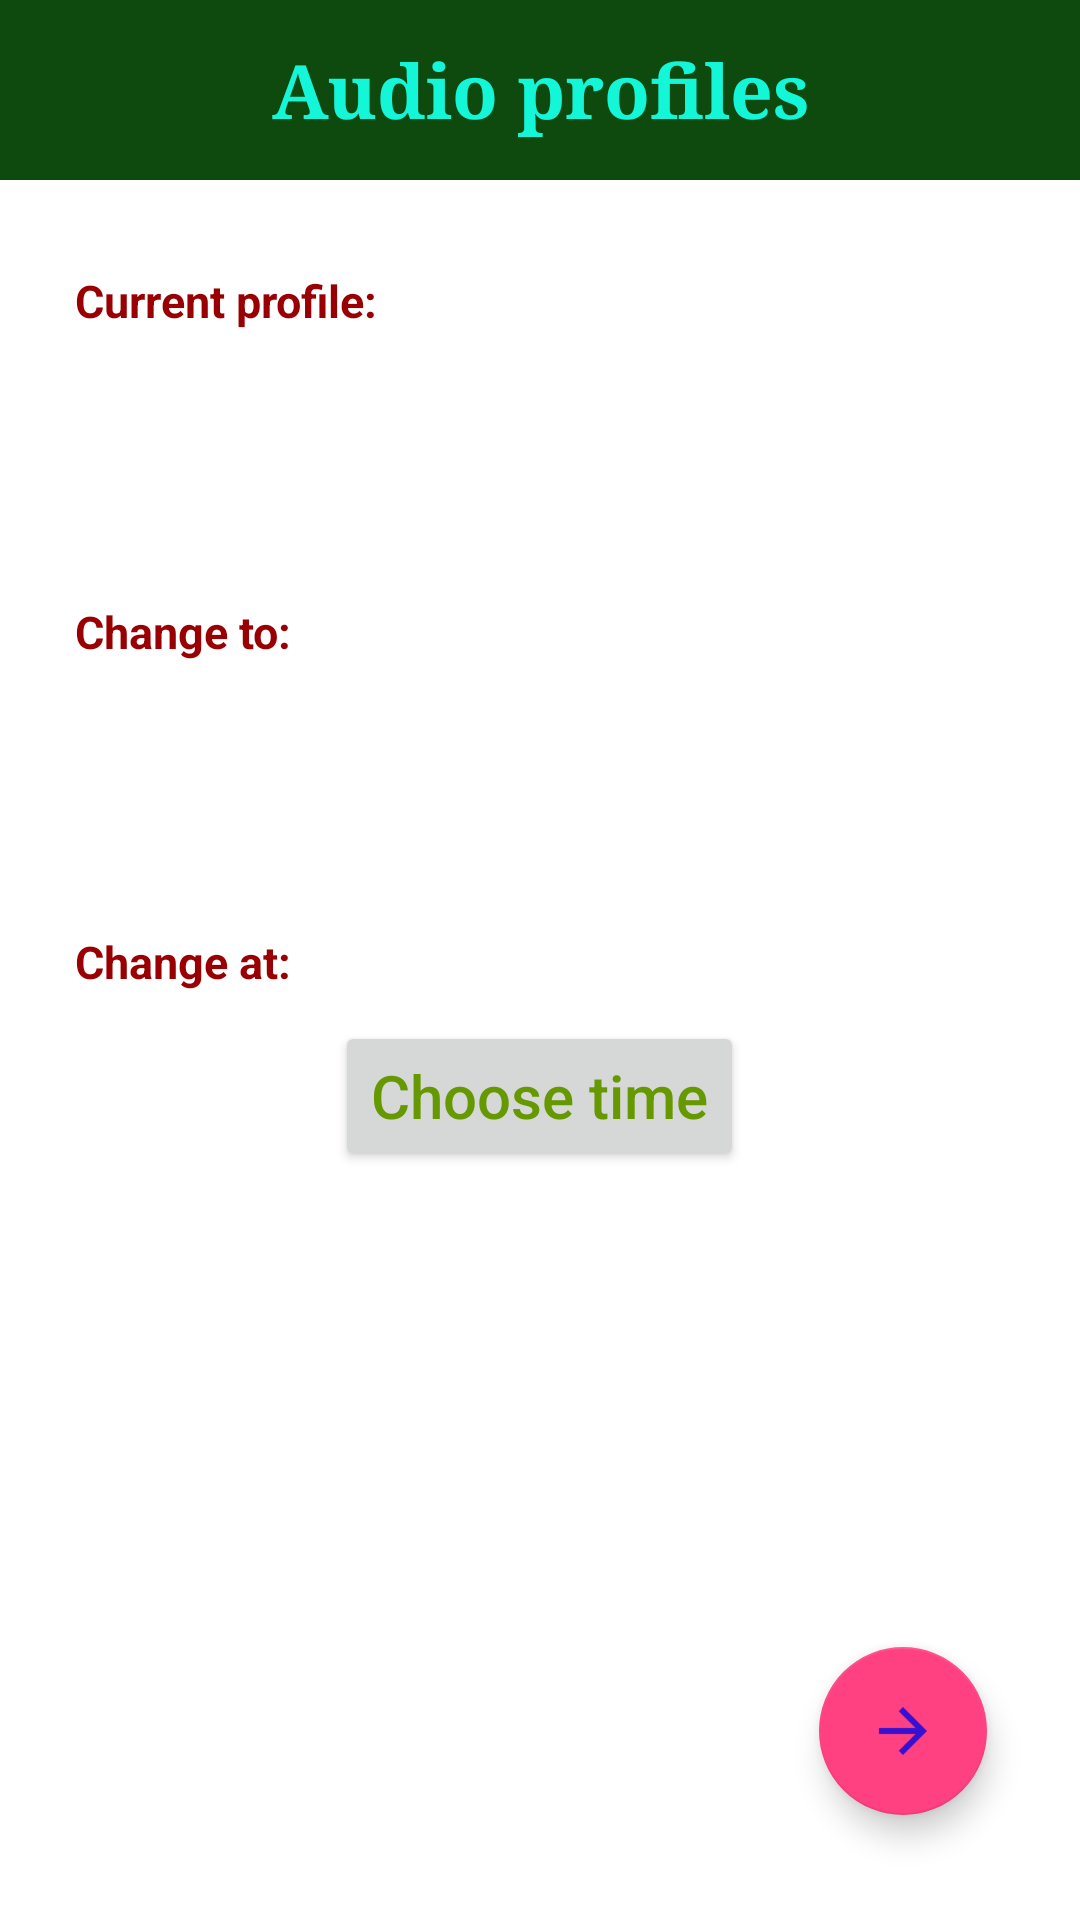

Point at icon controls on the screen. Image size 1080 x 1920, points as (x,y).
next: (903,1731)
